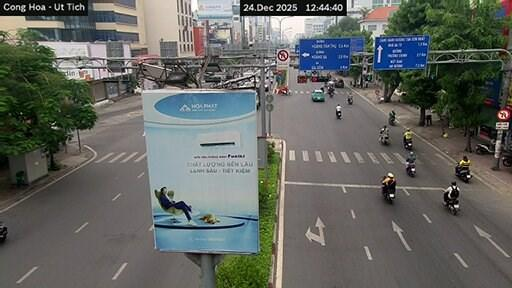motorbike: (475, 140, 496, 155), (381, 183, 395, 203), (455, 166, 471, 182), (443, 199, 459, 214), (382, 185, 395, 203), (0, 222, 7, 241), (406, 162, 415, 176), (502, 153, 511, 166), (277, 86, 290, 94), (388, 111, 395, 125), (403, 140, 412, 150), (380, 134, 389, 144), (388, 117, 395, 125), (347, 97, 353, 105), (328, 88, 333, 97), (336, 110, 341, 118)
